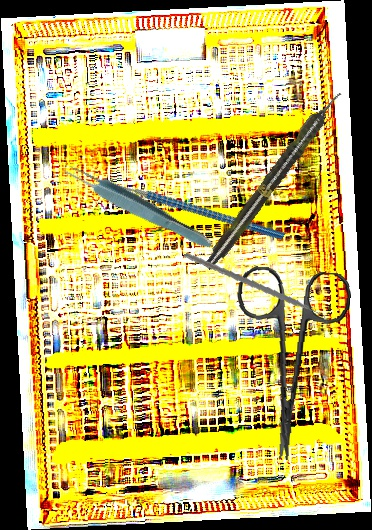Chopper: (94, 127, 287, 298), (184, 235, 329, 347)
Handpiece: (199, 86, 348, 274)
Iris Scissors: (223, 264, 353, 465)
Tissue Forceps: (58, 157, 217, 254)
